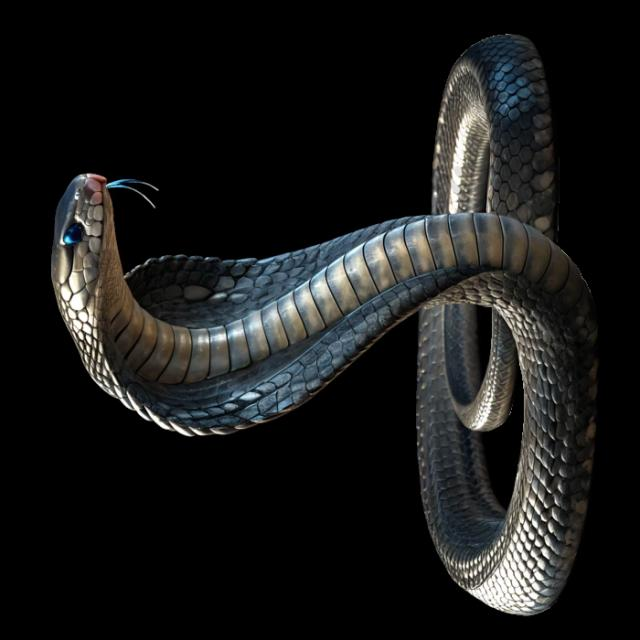Venomous: (26, 164, 327, 456)
